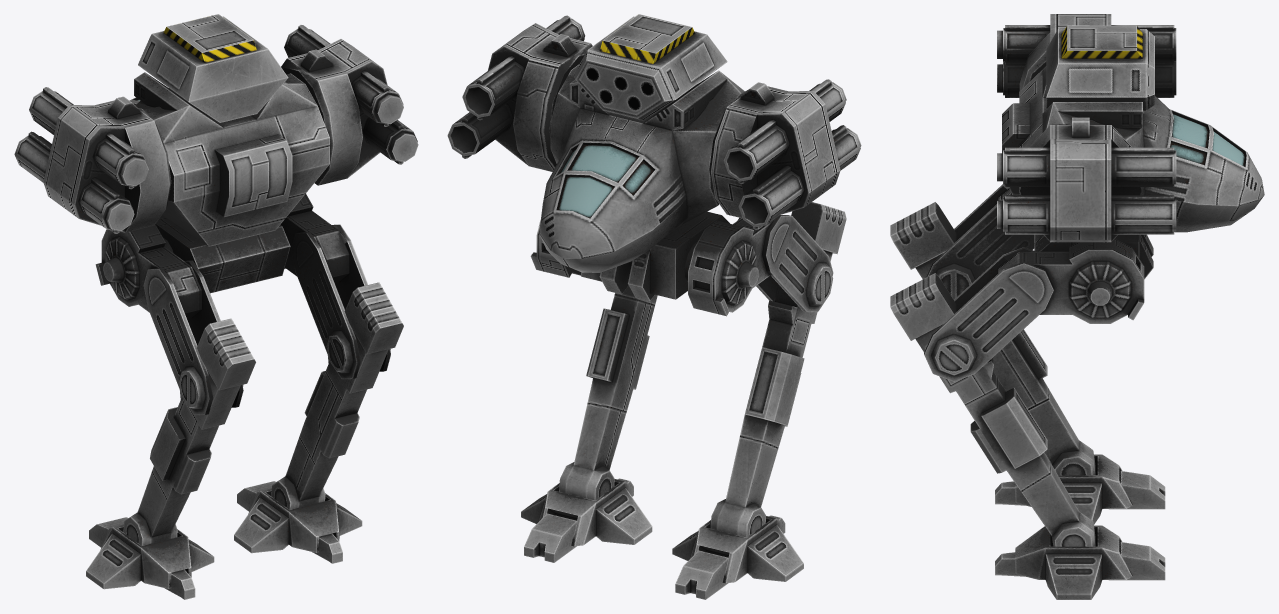
File: Stiletto.FBX
The picture shows the model from 3 angles, left to right: view 1: azimuth 30°, elevation 25°; view 2: azimuth 150°, elevation 25°; view 3: azimuth 270°, elevation 25°; orthographic projection. The views are drawn at different scales.
Parts seen in each view (by area): view 1: torso, lupperarm, rupperarm, lupperleg, llowerleg, rlowerleg, launcher_1, rupperleg, pelvis, lfoot, rfoot, lbacktoe (+1 smaller); view 2: torso, lupperarm, llowerleg, rupperarm, lupperleg, launcher_1, rlowerleg, rfoot, lfoot, pelvis, lfronttoe, rfronttoe (+1 smaller); view 3: rupperarm, rupperleg, torso, rlowerleg, llowerleg, launcher_1, lupperarm, rfoot, lupperleg, lfoot, lfronttoe, rfronttoe (+1 smaller).
Boxes of the visible parts, <box> form: torso: <box>129,72,329,246</box>; lupperarm: <box>14,87,171,233</box>; rupperarm: <box>281,25,418,185</box>; lupperleg: <box>95,225,243,415</box>; llowerleg: <box>123,318,255,545</box>; rlowerleg: <box>271,282,403,509</box>; launcher_1: <box>138,14,288,122</box>; rupperleg: <box>280,194,390,379</box>; pelvis: <box>155,215,290,293</box>; lfoot: <box>86,524,214,589</box>; rfoot: <box>234,488,362,553</box>; lbacktoe: <box>164,569,195,599</box>; torso: <box>539,64,744,272</box>; lupperarm: <box>709,79,861,229</box>; llowerleg: <box>710,202,846,537</box>; rupperarm: <box>447,15,592,171</box>; lupperleg: <box>685,215,833,316</box>; launcher_1: <box>573,14,727,120</box>; rlowerleg: <box>559,285,657,500</box>; rfoot: <box>521,479,652,546</box>; lfoot: <box>672,516,803,583</box>; pelvis: <box>581,211,729,301</box>; lfronttoe: <box>675,550,728,599</box>; rfronttoe: <box>524,513,576,562</box>; rupperarm: <box>997,117,1176,242</box>; rupperleg: <box>924,239,1144,381</box>; torso: <box>1002,66,1264,232</box>; rlowerleg: <box>890,273,1095,546</box>; llowerleg: <box>890,202,1095,475</box>; launcher_1: <box>1046,25,1154,110</box>; lupperarm: <box>997,14,1176,97</box>; rfoot: <box>1015,525,1132,599</box>; lupperleg: <box>926,184,1034,299</box>; lfoot: <box>1015,454,1132,524</box>; lfronttoe: <box>1109,471,1165,509</box>; rfronttoe: <box>1109,542,1165,580</box>.
Size of the model in its own units: 29.65 by 44.41 by 30.15.
Materials: 1 (1 with a texture image).
